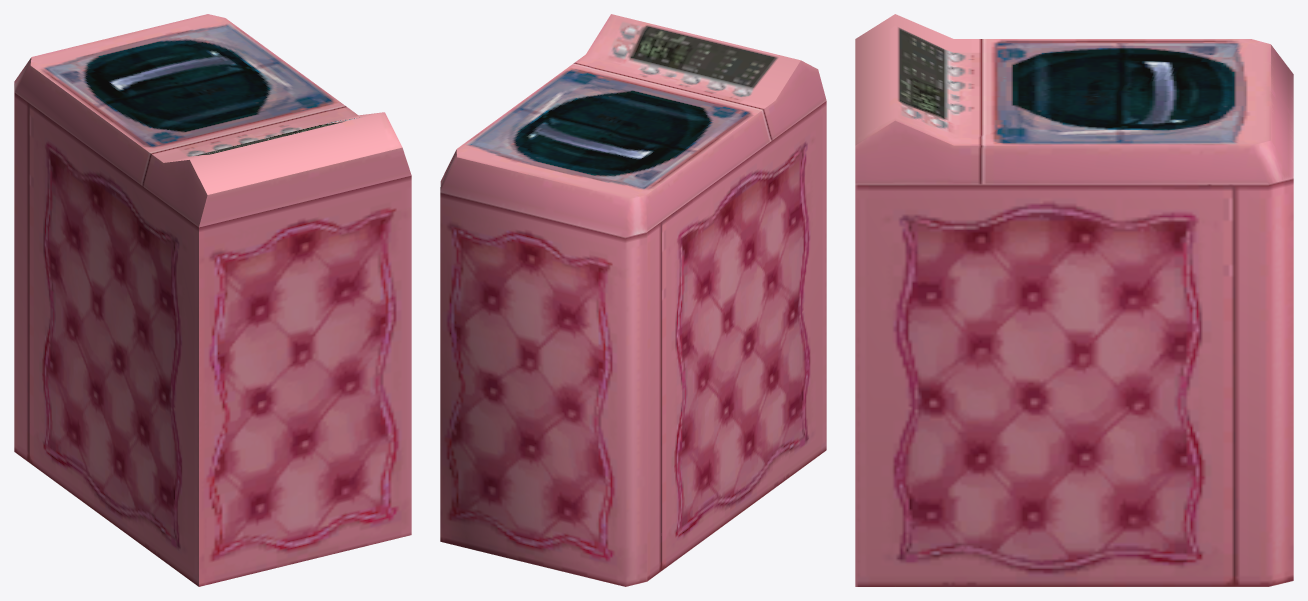
Rendered from furni_0200026.FBX.
The picture shows the model from 3 angles, left to right: view 1: azimuth 30°, elevation 25°; view 2: azimuth 150°, elevation 25°; view 3: azimuth 270°, elevation 25°; orthographic projection. The views are drawn at different scales.
Parts seen in each view (by area): view 1: furni_0200026; view 2: furni_0200026; view 3: furni_0200026.
Boxes of the visible parts, x1=… form: furni_0200026: x1=14, y1=14, x2=411, y2=586; furni_0200026: x1=440, y1=14, x2=826, y2=586; furni_0200026: x1=855, y1=14, x2=1293, y2=586.
Bounding box in the file's own units: 45.7 × 84.56 × 72.8.
